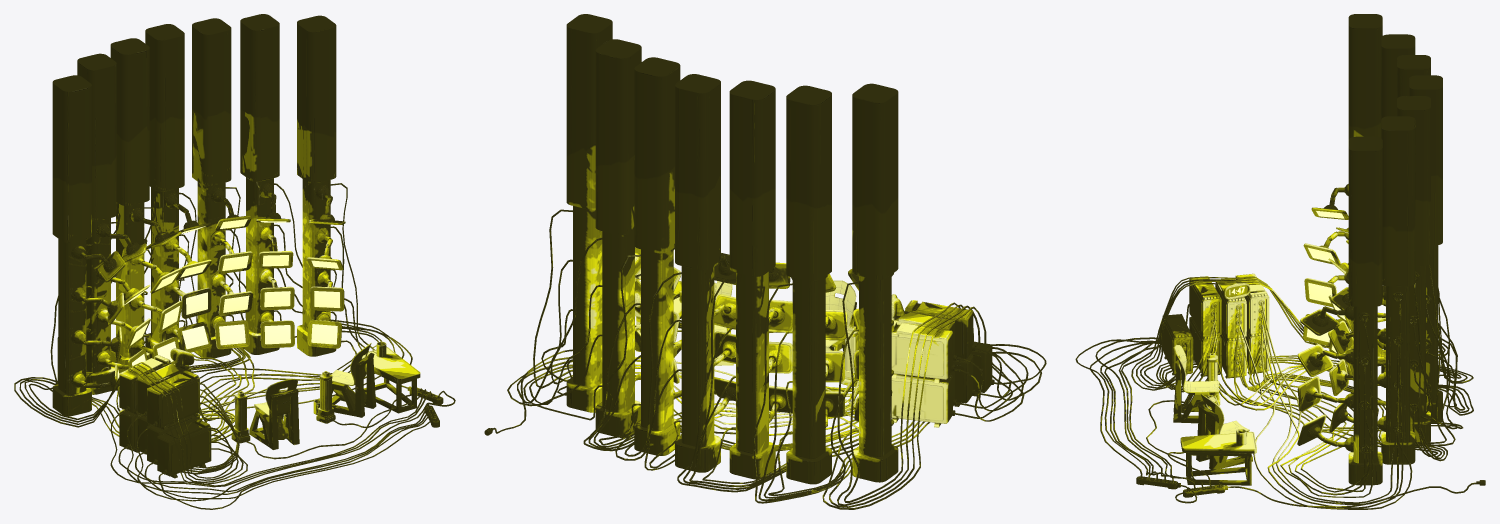
Rendered from surveillance_room.glb.
3 views of the same model, side by side, from view 1: azimuth 30°, elevation 25°; view 2: azimuth 150°, elevation 25°; view 3: azimuth 270°, elevation 25° (orthographic). The views are drawn at different scales.
Parts seen in each view (by area): view 1: BezierCurve.002_2, BezierCurve.001_1, BezierCurve.004_4, BezierCurve.003_3; view 2: BezierCurve.002_2, BezierCurve.001_1, BezierCurve.004_4; view 3: BezierCurve.002_2, BezierCurve.001_1, BezierCurve.004_4, BezierCurve.003_3.
Part boxes in pixels (x1,y1,x2,y2): BezierCurve.002_2: [52, 14, 345, 416]; BezierCurve.001_1: [14, 183, 455, 509]; BezierCurve.004_4: [119, 341, 443, 478]; BezierCurve.003_3: [117, 219, 340, 379]; BezierCurve.002_2: [484, 14, 898, 484]; BezierCurve.001_1: [493, 209, 1046, 509]; BezierCurve.004_4: [635, 280, 994, 427]; BezierCurve.002_2: [1297, 14, 1485, 485]; BezierCurve.001_1: [1075, 187, 1476, 509]; BezierCurve.004_4: [1136, 273, 1269, 497]; BezierCurve.003_3: [1229, 211, 1351, 366].
Size of what is drawn, in the model's own units: 6.52 by 5.84 by 6.49.
3 materials, 2 textured.
